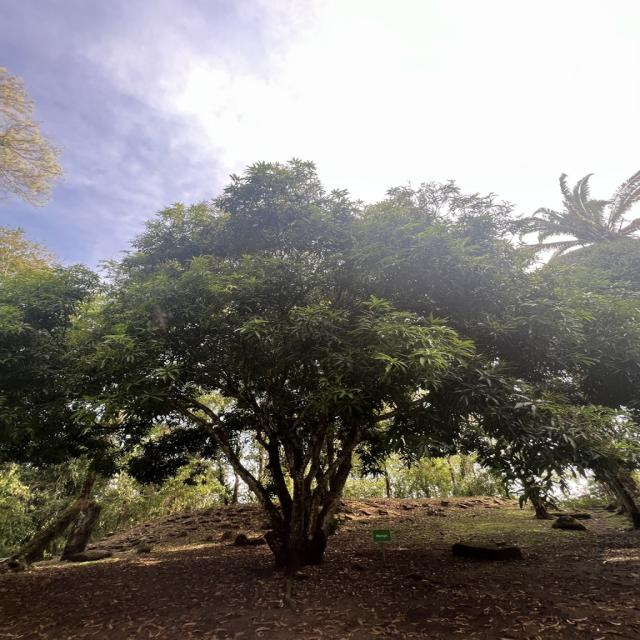Mango-Tree: (93, 186, 517, 552)
